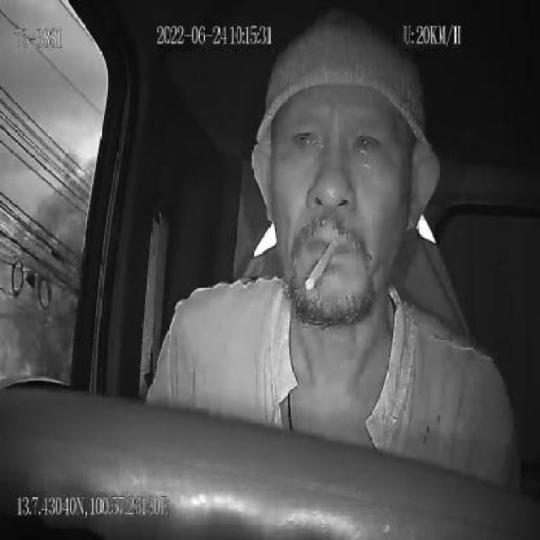smoking: (305, 238, 340, 295)
